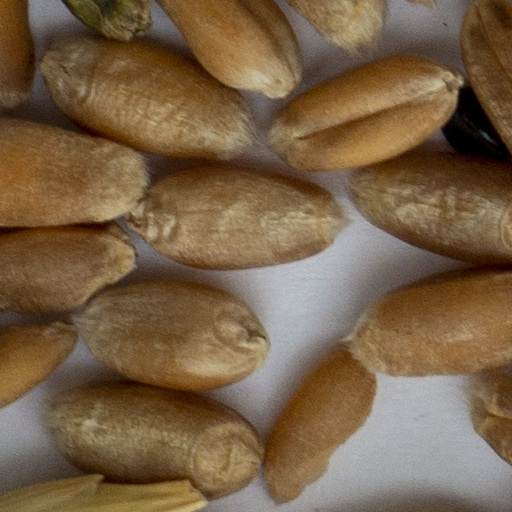Fallopia-Convolvulus-poly: (445, 88, 508, 159)
